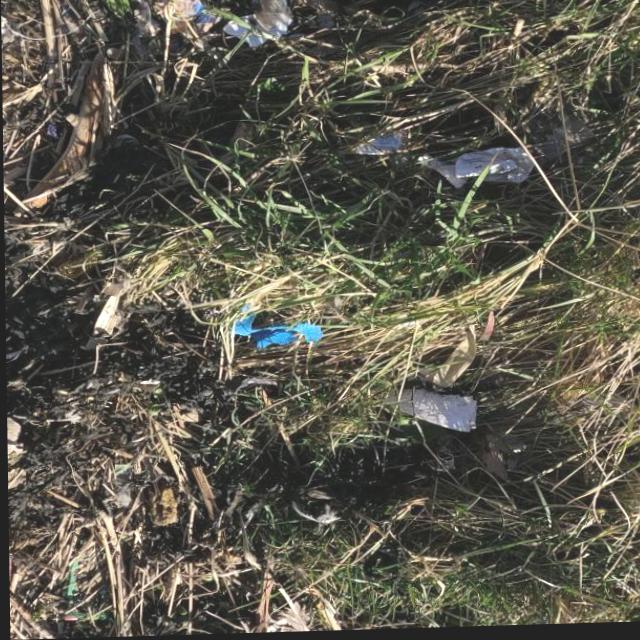Paper: (380, 389, 477, 437)
Plastic: (414, 149, 533, 192), (149, 0, 216, 37)
